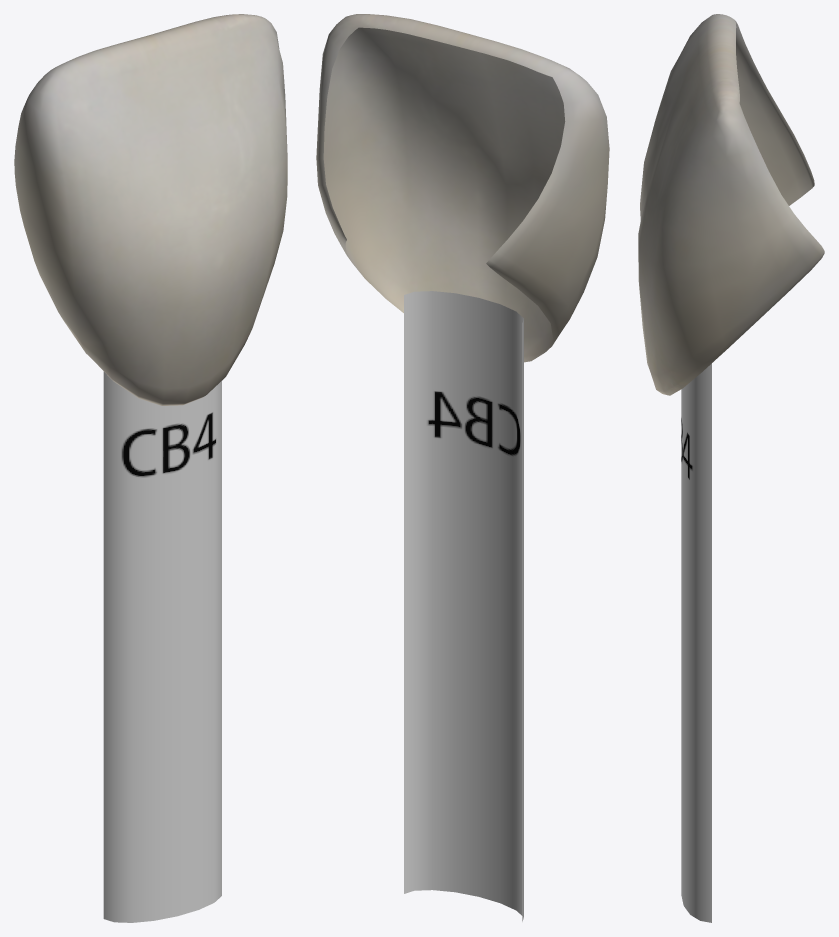
The picture shows the model from 3 angles, left to right: view 1: azimuth 30°, elevation 25°; view 2: azimuth 150°, elevation 25°; view 3: azimuth 270°, elevation 25°; orthographic projection. The views are drawn at different scales.
Parts seen in each view (by area): view 1: Tab; view 2: Tab; view 3: Tab.
Boxes of the visible parts, <box> form: Tab: <box>14,14,287,922</box>; Tab: <box>316,14,609,921</box>; Tab: <box>638,14,824,922</box>.
Size of the model in its own units: 0.00859 by 0.0273 by 0.00547.
1 material, 1 textured.
